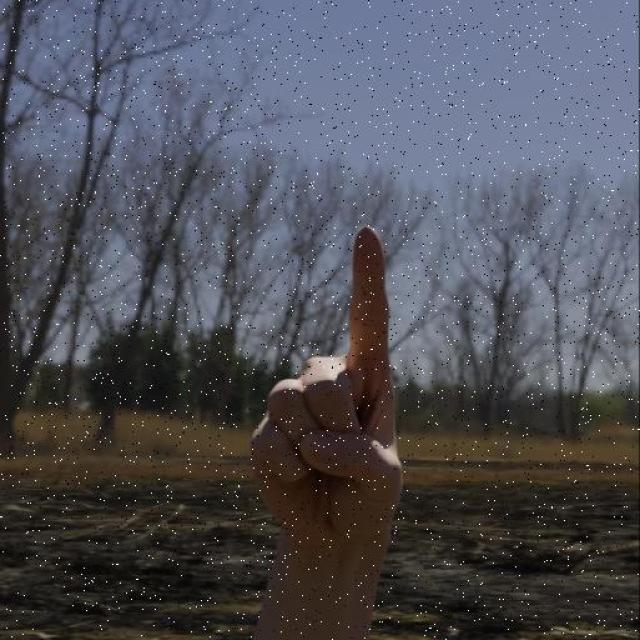Z: (231, 228, 410, 598)
